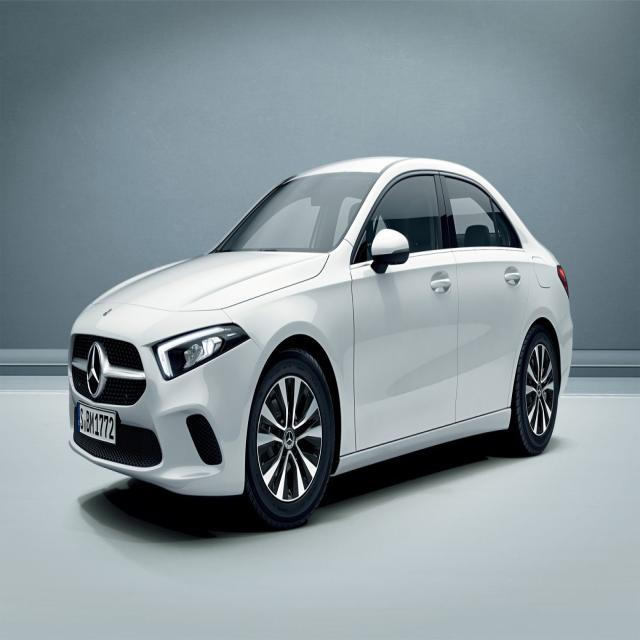car: (65, 153, 576, 532)
